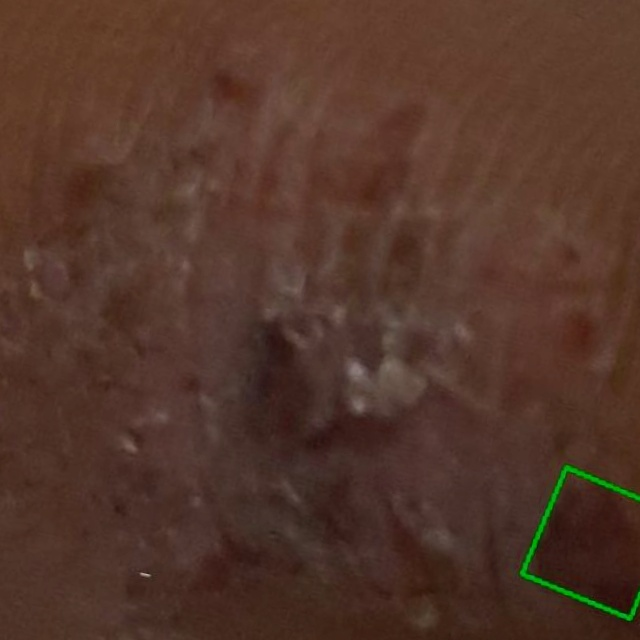Contact Dermatitis: (522, 468, 639, 619)
